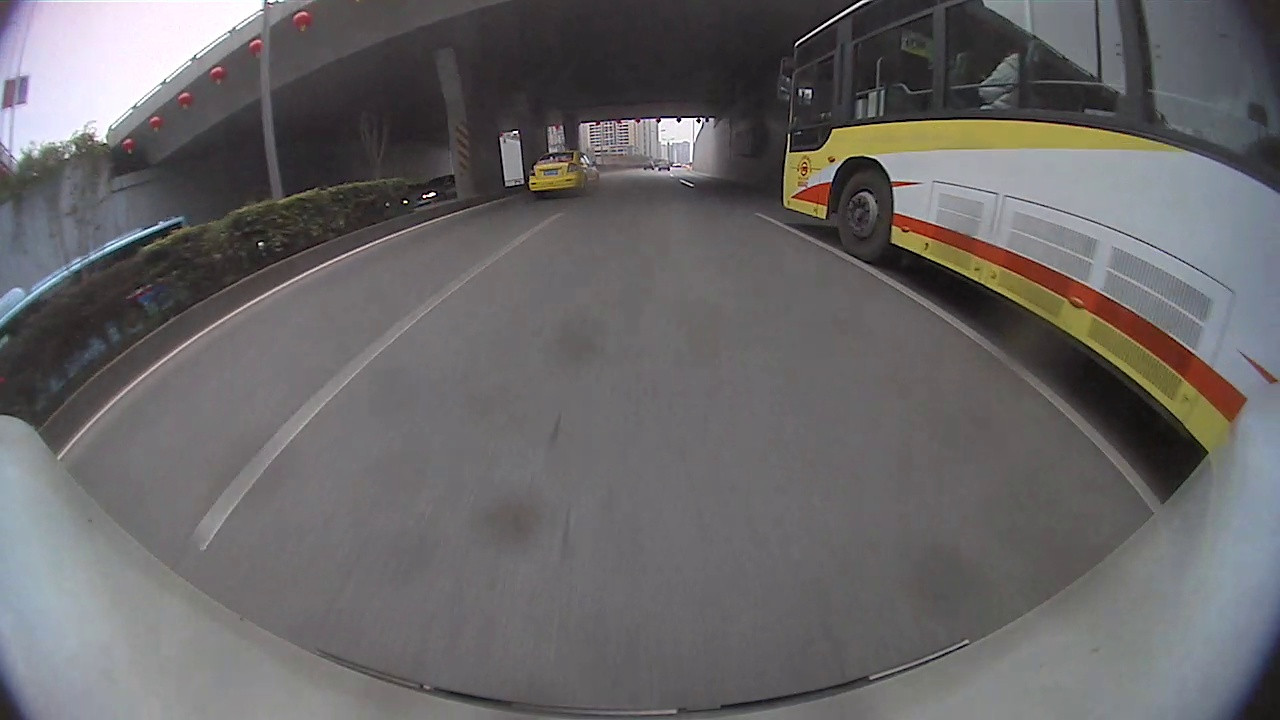bus: (773, 1, 1279, 453), (1, 212, 188, 347)
car: (526, 148, 603, 198)
front: (835, 171, 896, 261)
